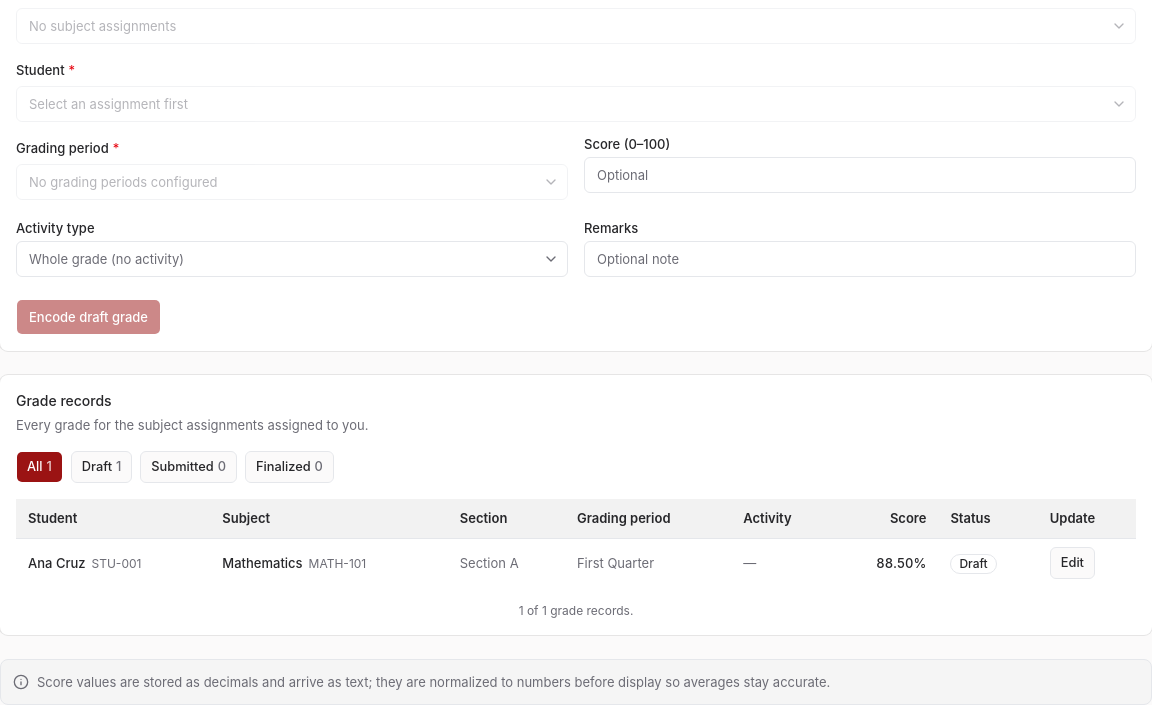
Test: AcademicsPage (faculty grade update) › shows the server's field error and keeps the dialog open
This screenshot has width=1152, height=705.
(page scrolled)
Expected: the text "MATH-101" is shown, [309,556,366,571]
Click the button "Edit" at coordinates (1072, 563), box [1050,547,1095,579]
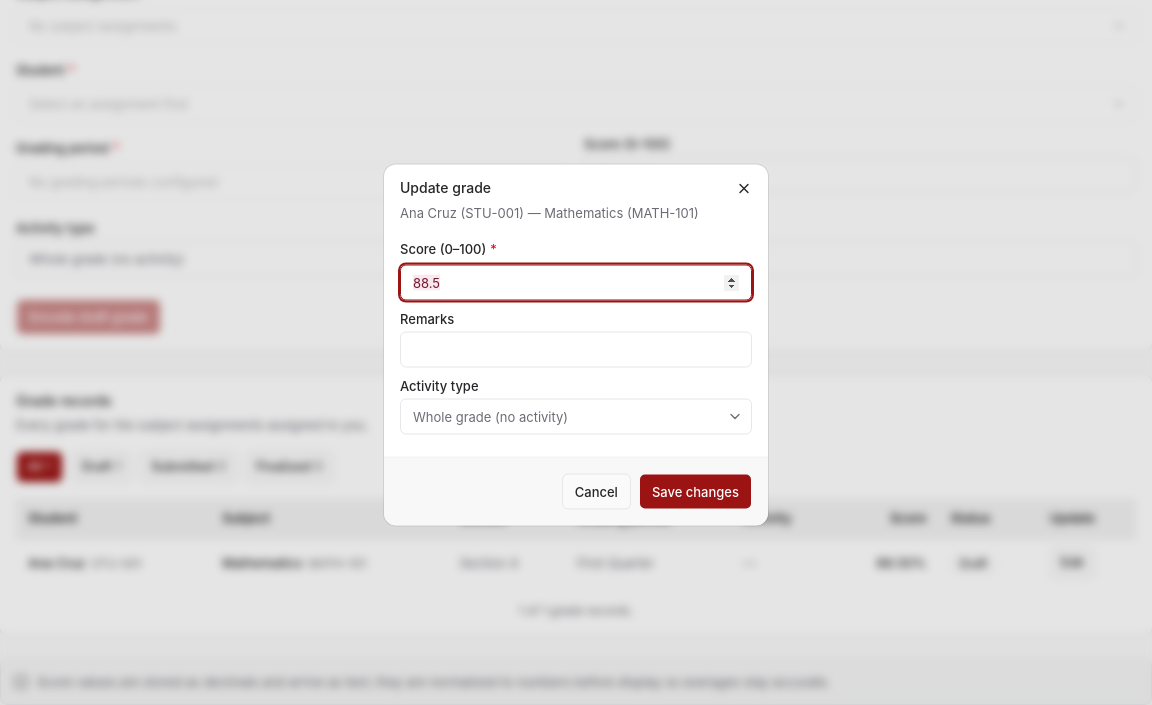
Replace the text in the number field labelled "Score (0–100)" with "140" at coordinates (576, 282), box [400,264,752,300]
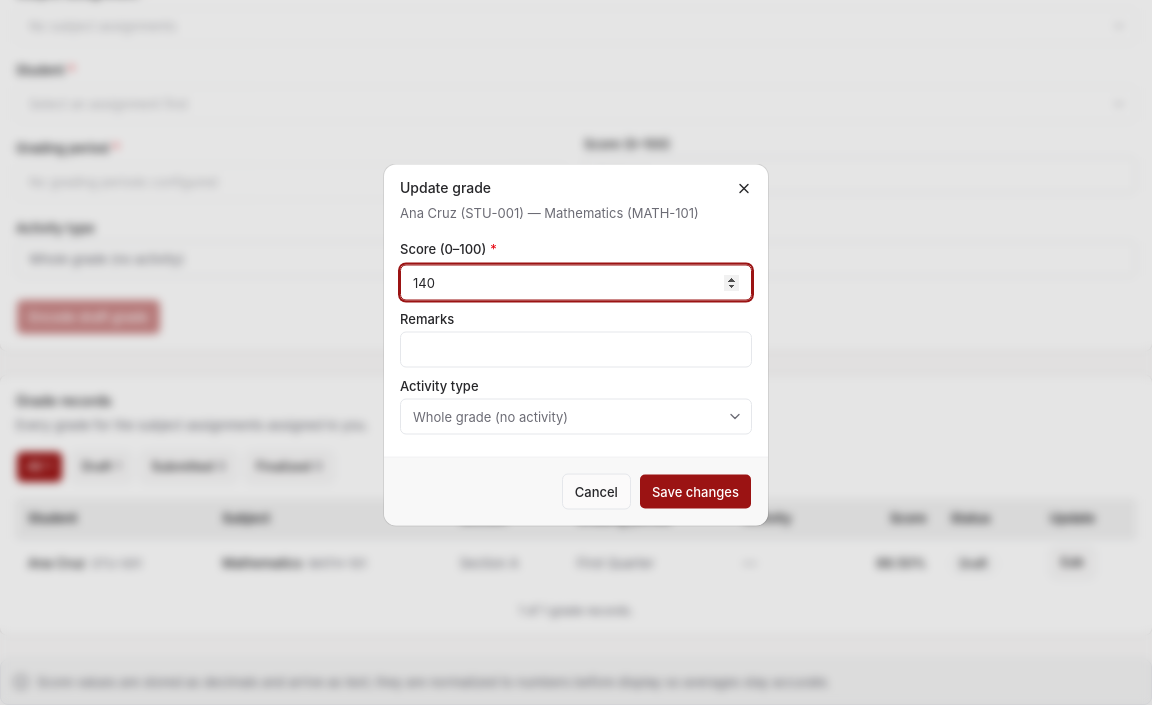
Click the button "Save changes" at coordinates (695, 492), box [639,474,752,510]
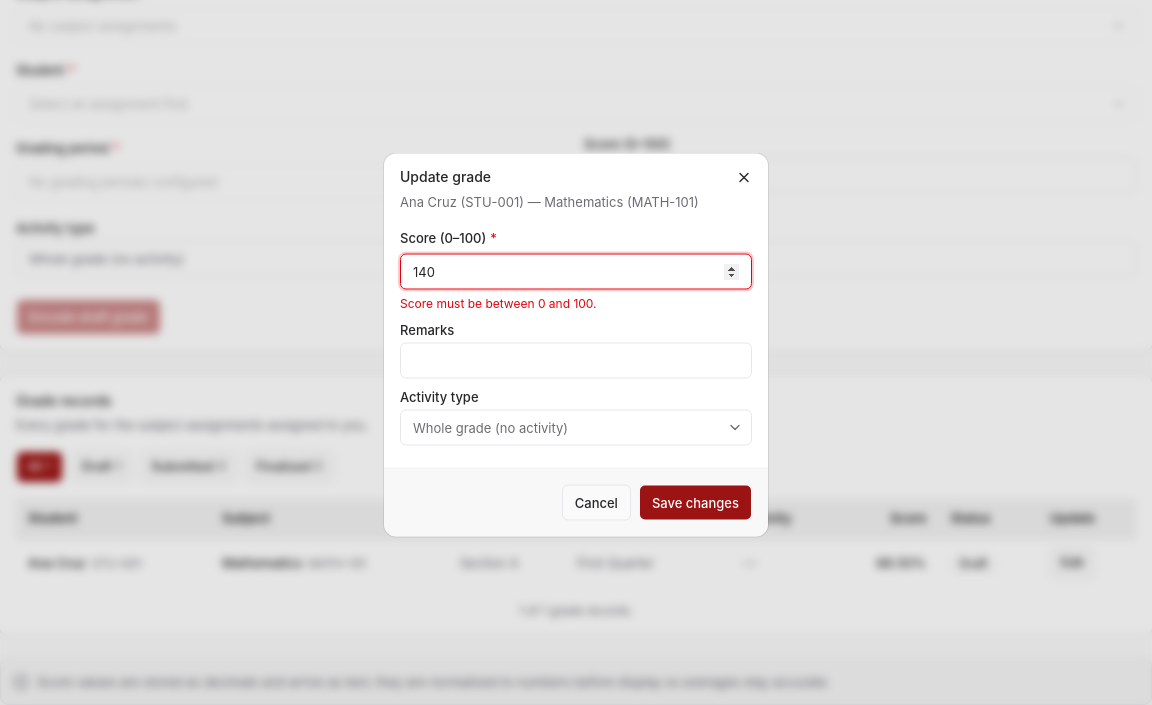
Expected: the dialog is shown, [384,154,768,536]
Expected: the text "Score must be between 0 and 100." is shown, [400,296,597,310]
